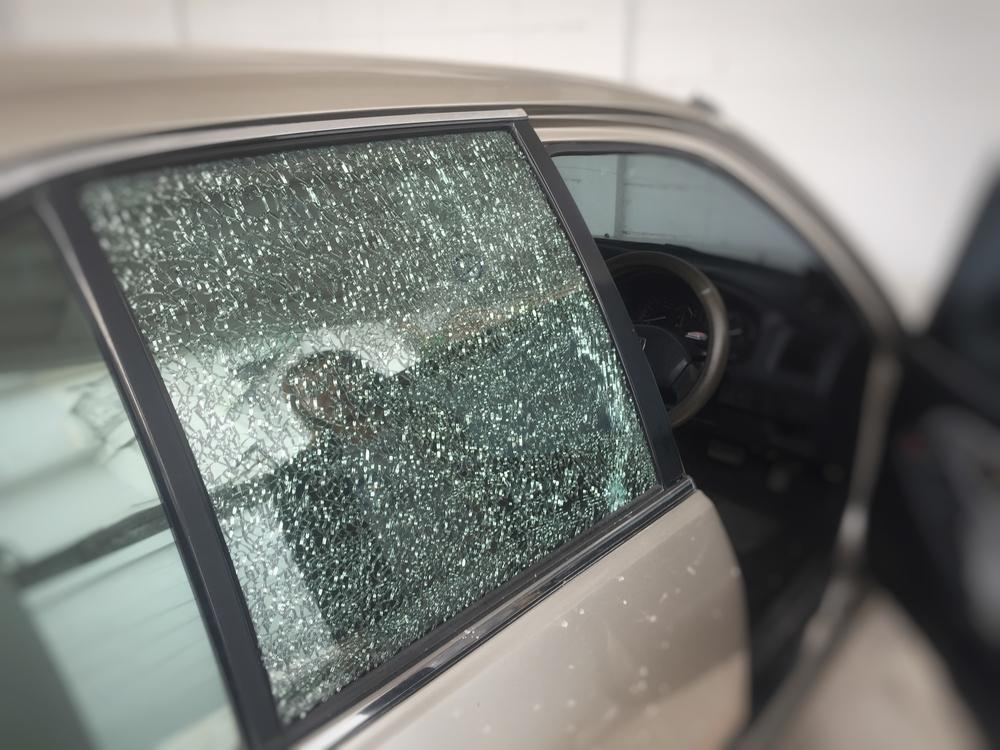glass shatter: (84, 126, 661, 729)
